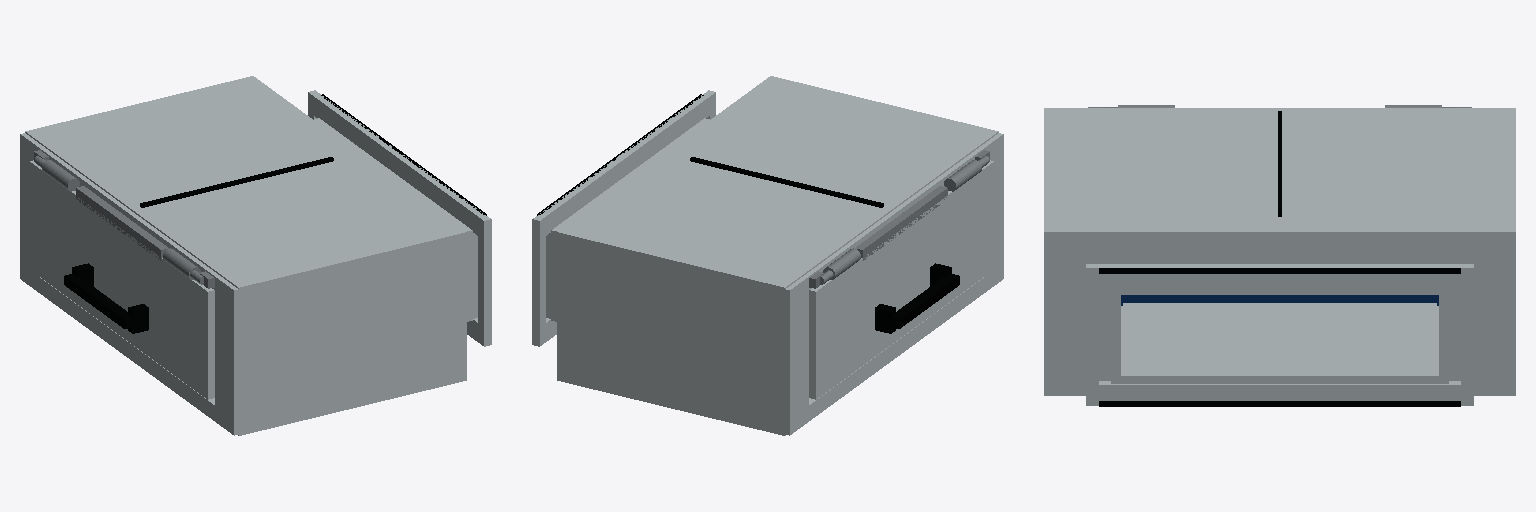
URDF robot description (duct_mounted_air_purifier):
<robot name="duct_mounted_air_purifier">
  <material name="warm_powder_coated_metal">
    <color rgba="0.72 0.75 0.76 1" />
    </material>
  <material name="dark_rubber_and_handles">
    <color rgba="0.02 0.025 0.028 1" />
    </material>
  <material name="brushed_hinge_metal">
    <color rgba="0.5 0.52 0.53 1" />
    </material>
  <material name="blue_filter_frame">
    <color rgba="0.08 0.23 0.42 1" />
    </material>
  <material name="pleated_white_filter_media">
    <color rgba="0.92 0.95 0.93 1" />
    </material>
  <material name="pale_blue_pleat_shadow">
    <color rgba="0.56 0.7 0.82 1" />
    </material>
  <link name="housing">
    <visual name="top_wall">
      <origin xyz="0 0 0.2125" rpy="0 0 0" />
      <geometry>
        <box size="0.72 1.2 0.035" />
        </geometry>
      <material name="warm_powder_coated_metal">
        <color rgba="0.72 0.75 0.76 1" />
        </material>
      </visual>
    <visual name="bottom_wall">
      <origin xyz="0 0 -0.2125" rpy="0 0 0" />
      <geometry>
        <box size="0.72 1.2 0.035" />
        </geometry>
      <material name="warm_powder_coated_metal">
        <color rgba="0.72 0.75 0.76 1" />
        </material>
      </visual>
    <visual name="side_wall_0">
      <origin xyz="0 -0.5775 0" rpy="0 0 0" />
      <geometry>
        <box size="0.72 0.045 0.46" />
        </geometry>
      <material name="warm_powder_coated_metal">
        <color rgba="0.72 0.75 0.76 1" />
        </material>
      </visual>
    <visual name="side_wall_1">
      <origin xyz="0 0.5775 0" rpy="0 0 0" />
      <geometry>
        <box size="0.72 0.045 0.46" />
        </geometry>
      <material name="warm_powder_coated_metal">
        <color rgba="0.72 0.75 0.76 1" />
        </material>
      </visual>
    <visual name="front_ring_top">
      <origin xyz="0.362 0 0.1825" rpy="0 0 0" />
      <geometry>
        <box size="0.035 1.2 0.095" />
        </geometry>
      <material name="warm_powder_coated_metal">
        <color rgba="0.72 0.75 0.76 1" />
        </material>
      </visual>
    <visual name="front_ring_bottom">
      <origin xyz="0.362 0 -0.1825" rpy="0 0 0" />
      <geometry>
        <box size="0.035 1.2 0.095" />
        </geometry>
      <material name="warm_powder_coated_metal">
        <color rgba="0.72 0.75 0.76 1" />
        </material>
      </visual>
    <visual name="front_ring_side_0">
      <origin xyz="0.362 -0.505 0" rpy="0 0 0" />
      <geometry>
        <box size="0.035 0.19 0.29" />
        </geometry>
      <material name="warm_powder_coated_metal">
        <color rgba="0.72 0.75 0.76 1" />
        </material>
      </visual>
    <visual name="front_ring_side_1">
      <origin xyz="0.362 0.505 0" rpy="0 0 0" />
      <geometry>
        <box size="0.035 0.19 0.29" />
        </geometry>
      <material name="warm_powder_coated_metal">
        <color rgba="0.72 0.75 0.76 1" />
        </material>
      </visual>
    <visual name="duct_sleeve_top">
      <origin xyz="0.435 0 0.127" rpy="0 0 0" />
      <geometry>
        <box size="0.155 0.86 0.026" />
        </geometry>
      <material name="warm_powder_coated_metal">
        <color rgba="0.72 0.75 0.76 1" />
        </material>
      </visual>
    <visual name="duct_sleeve_bottom">
      <origin xyz="0.435 0 -0.127" rpy="0 0 0" />
      <geometry>
        <box size="0.155 0.86 0.026" />
        </geometry>
      <material name="warm_powder_coated_metal">
        <color rgba="0.72 0.75 0.76 1" />
        </material>
      </visual>
    <visual name="duct_sleeve_side_0">
      <origin xyz="0.435 -0.417 0" rpy="0 0 0" />
      <geometry>
        <box size="0.155 0.026 0.28" />
        </geometry>
      <material name="warm_powder_coated_metal">
        <color rgba="0.72 0.75 0.76 1" />
        </material>
      </visual>
    <visual name="duct_sleeve_side_1">
      <origin xyz="0.435 0.417 0" rpy="0 0 0" />
      <geometry>
        <box size="0.155 0.026 0.28" />
        </geometry>
      <material name="warm_powder_coated_metal">
        <color rgba="0.72 0.75 0.76 1" />
        </material>
      </visual>
    <visual name="mount_flange_top">
      <origin xyz="0.508 0 0.165" rpy="0 0 0" />
      <geometry>
        <box size="0.024 0.99 0.06" />
        </geometry>
      <material name="warm_powder_coated_metal">
        <color rgba="0.72 0.75 0.76 1" />
        </material>
      </visual>
    <visual name="mount_flange_bottom">
      <origin xyz="0.508 0 -0.165" rpy="0 0 0" />
      <geometry>
        <box size="0.024 0.99 0.06" />
        </geometry>
      <material name="warm_powder_coated_metal">
        <color rgba="0.72 0.75 0.76 1" />
        </material>
      </visual>
    <visual name="mount_flange_side_0">
      <origin xyz="0.508 -0.4775 0" rpy="0 0 0" />
      <geometry>
        <box size="0.024 0.035 0.39" />
        </geometry>
      <material name="warm_powder_coated_metal">
        <color rgba="0.72 0.75 0.76 1" />
        </material>
      </visual>
    <visual name="mount_flange_side_1">
      <origin xyz="0.508 0.4775 0" rpy="0 0 0" />
      <geometry>
        <box size="0.024 0.035 0.39" />
        </geometry>
      <material name="warm_powder_coated_metal">
        <color rgba="0.72 0.75 0.76 1" />
        </material>
      </visual>
    <visual name="rear_lip_top">
      <origin xyz="-0.362 0 0.2" rpy="0 0 0" />
      <geometry>
        <box size="0.026 1.2 0.05" />
        </geometry>
      <material name="warm_powder_coated_metal">
        <color rgba="0.72 0.75 0.76 1" />
        </material>
      </visual>
    <visual name="rear_lip_bottom">
      <origin xyz="-0.362 0 -0.2" rpy="0 0 0" />
      <geometry>
        <box size="0.026 1.2 0.05" />
        </geometry>
      <material name="warm_powder_coated_metal">
        <color rgba="0.72 0.75 0.76 1" />
        </material>
      </visual>
    <visual name="rear_lip_side_0">
      <origin xyz="-0.362 -0.545 0" rpy="0 0 0" />
      <geometry>
        <box size="0.026 0.11 0.36" />
        </geometry>
      <material name="warm_powder_coated_metal">
        <color rgba="0.72 0.75 0.76 1" />
        </material>
      </visual>
    <visual name="rear_lip_side_1">
      <origin xyz="-0.362 0.545 0" rpy="0 0 0" />
      <geometry>
        <box size="0.026 0.11 0.36" />
        </geometry>
      <material name="warm_powder_coated_metal">
        <color rgba="0.72 0.75 0.76 1" />
        </material>
      </visual>
    <visual name="lower_guide_0">
      <origin xyz="-0.125 -0.5 -0.153" rpy="0 0 0" />
      <geometry>
        <box size="0.43 0.11 0.022" />
        </geometry>
      <material name="warm_powder_coated_metal">
        <color rgba="0.72 0.75 0.76 1" />
        </material>
      </visual>
    <visual name="lower_guide_1">
      <origin xyz="-0.125 0.5 -0.153" rpy="0 0 0" />
      <geometry>
        <box size="0.43 0.11 0.022" />
        </geometry>
      <material name="warm_powder_coated_metal">
        <color rgba="0.72 0.75 0.76 1" />
        </material>
      </visual>
    <visual name="upper_guide_0">
      <origin xyz="-0.125 -0.5 0.155" rpy="0 0 0" />
      <geometry>
        <box size="0.43 0.11 0.018" />
        </geometry>
      <material name="warm_powder_coated_metal">
        <color rgba="0.72 0.75 0.76 1" />
        </material>
      </visual>
    <visual name="upper_guide_1">
      <origin xyz="-0.125 0.5 0.155" rpy="0 0 0" />
      <geometry>
        <box size="0.43 0.11 0.018" />
        </geometry>
      <material name="warm_powder_coated_metal">
        <color rgba="0.72 0.75 0.76 1" />
        </material>
      </visual>
    <visual name="top_split_seam">
      <origin xyz="-0.02 0 0.235" rpy="0 0 0" />
      <geometry>
        <box size="0.62 0.012 0.01" />
        </geometry>
      <material name="dark_rubber_and_handles">
        <color rgba="0.02 0.025 0.028 1" />
        </material>
      </visual>
    <visual name="front_top_gasket">
      <origin xyz="0.52 0 0.188" rpy="0 0 0" />
      <geometry>
        <box size="0.012 0.92 0.014" />
        </geometry>
      <material name="dark_rubber_and_handles">
        <color rgba="0.02 0.025 0.028 1" />
        </material>
      </visual>
    <visual name="front_bottom_gasket">
      <origin xyz="0.52 0 -0.188" rpy="0 0 0" />
      <geometry>
        <box size="0.012 0.92 0.014" />
        </geometry>
      <material name="dark_rubber_and_handles">
        <color rgba="0.02 0.025 0.028 1" />
        </material>
      </visual>
    <visual name="hinge_base_0">
      <origin xyz="-0.37 -0.465 0.205" rpy="0 0 0" />
      <geometry>
        <box size="0.05 0.05 0.03" />
        </geometry>
      <material name="brushed_hinge_metal">
        <color rgba="0.5 0.52 0.53 1" />
        </material>
      </visual>
    <visual name="fixed_pin_boss_0">
      <origin xyz="-0.397 -0.4 0.205" rpy="-1.5708 0 0" />
      <geometry>
        <cylinder radius="0.012" length="0.13" />
        </geometry>
      <material name="brushed_hinge_metal">
        <color rgba="0.5 0.52 0.53 1" />
        </material>
      </visual>
    <visual name="hinge_base_1">
      <origin xyz="-0.37 0.465 0.205" rpy="0 0 0" />
      <geometry>
        <box size="0.05 0.05 0.03" />
        </geometry>
      <material name="brushed_hinge_metal">
        <color rgba="0.5 0.52 0.53 1" />
        </material>
      </visual>
    <visual name="fixed_pin_boss_1">
      <origin xyz="-0.397 0.4 0.205" rpy="-1.5708 0 0" />
      <geometry>
        <cylinder radius="0.012" length="0.13" />
        </geometry>
      <material name="brushed_hinge_metal">
        <color rgba="0.5 0.52 0.53 1" />
        </material>
      </visual>
    </link>
  <link name="rear_door">
    <visual name="door_panel">
      <origin xyz="0 0 -0.185" rpy="0 0 0" />
      <geometry>
        <box size="0.022 1 0.335" />
        </geometry>
      <material name="warm_powder_coated_metal">
        <color rgba="0.72 0.75 0.76 1" />
        </material>
      </visual>
    <visual name="top_gasket">
      <origin xyz="0.017 0 -0.03" rpy="0 0 0" />
      <geometry>
        <box size="0.012 0.94 0.018" />
        </geometry>
      <material name="dark_rubber_and_handles">
        <color rgba="0.02 0.025 0.028 1" />
        </material>
      </visual>
    <visual name="bottom_gasket">
      <origin xyz="0.017 0 -0.335" rpy="0 0 0" />
      <geometry>
        <box size="0.012 0.94 0.018" />
        </geometry>
      <material name="dark_rubber_and_handles">
        <color rgba="0.02 0.025 0.028 1" />
        </material>
      </visual>
    <visual name="gasket_0">
      <origin xyz="0.017 -0.47 -0.185" rpy="0 0 0" />
      <geometry>
        <box size="0.012 0.018 0.32" />
        </geometry>
      <material name="dark_rubber_and_handles">
        <color rgba="0.02 0.025 0.028 1" />
        </material>
      </visual>
    <visual name="gasket_1">
      <origin xyz="0.017 0.47 -0.185" rpy="0 0 0" />
      <geometry>
        <box size="0.012 0.018 0.32" />
        </geometry>
      <material name="dark_rubber_and_handles">
        <color rgba="0.02 0.025 0.028 1" />
        </material>
      </visual>
    <visual name="hinge_leaf">
      <origin xyz="0.002 0 -0.012" rpy="0 0 0" />
      <geometry>
        <box size="0.026 0.48 0.036" />
        </geometry>
      <material name="brushed_hinge_metal">
        <color rgba="0.5 0.52 0.53 1" />
        </material>
      </visual>
    <visual name="hinge_knuckle_0">
      <origin xyz="-0.002 -0.34 0" rpy="-1.5708 0 0" />
      <geometry>
        <cylinder radius="0.02" length="0.145" />
        </geometry>
      <material name="brushed_hinge_metal">
        <color rgba="0.5 0.52 0.53 1" />
        </material>
      </visual>
    <visual name="hinge_knuckle_1">
      <origin xyz="-0.002 0.34 0" rpy="-1.5708 0 0" />
      <geometry>
        <cylinder radius="0.02" length="0.145" />
        </geometry>
      <material name="brushed_hinge_metal">
        <color rgba="0.5 0.52 0.53 1" />
        </material>
      </visual>
    <visual name="handle_post_0">
      <origin xyz="-0.037 -0.155 -0.235" rpy="0 0 0" />
      <geometry>
        <box size="0.052 0.03 0.07" />
        </geometry>
      <material name="dark_rubber_and_handles">
        <color rgba="0.02 0.025 0.028 1" />
        </material>
      </visual>
    <visual name="handle_post_1">
      <origin xyz="-0.037 0.155 -0.235" rpy="0 0 0" />
      <geometry>
        <box size="0.052 0.03 0.07" />
        </geometry>
      <material name="dark_rubber_and_handles">
        <color rgba="0.02 0.025 0.028 1" />
        </material>
      </visual>
    <visual name="pull_handle">
      <origin xyz="-0.072 0 -0.235" rpy="0 0 0" />
      <geometry>
        <box size="0.034 0.34 0.03" />
        </geometry>
      <material name="dark_rubber_and_handles">
        <color rgba="0.02 0.025 0.028 1" />
        </material>
      </visual>
    </link>
  <link name="filter_frame">
    <visual name="media_block">
      <origin xyz="0.175 0 0" rpy="0 0 0" />
      <geometry>
        <box size="0.31 0.8 0.235" />
        </geometry>
      <material name="pleated_white_filter_media">
        <color rgba="0.92 0.95 0.93 1" />
        </material>
      </visual>
    <visual name="top_rail">
      <origin xyz="0.175 0 0.127" rpy="0 0 0" />
      <geometry>
        <box size="0.34 0.9 0.03" />
        </geometry>
      <material name="blue_filter_frame">
        <color rgba="0.08 0.23 0.42 1" />
        </material>
      </visual>
    <visual name="bottom_rail">
      <origin xyz="0.175 0 -0.127" rpy="0 0 0" />
      <geometry>
        <box size="0.34 0.9 0.03" />
        </geometry>
      <material name="blue_filter_frame">
        <color rgba="0.08 0.23 0.42 1" />
        </material>
      </visual>
    <visual name="side_rail_0">
      <origin xyz="0.175 -0.415 0" rpy="0 0 0" />
      <geometry>
        <box size="0.34 0.03 0.3" />
        </geometry>
      <material name="blue_filter_frame">
        <color rgba="0.08 0.23 0.42 1" />
        </material>
      </visual>
    <visual name="side_rail_1">
      <origin xyz="0.175 0.415 0" rpy="0 0 0" />
      <geometry>
        <box size="0.34 0.03 0.3" />
        </geometry>
      <material name="blue_filter_frame">
        <color rgba="0.08 0.23 0.42 1" />
        </material>
      </visual>
    <visual name="pull_tab">
      <origin xyz="-0.004 0 -0.01" rpy="0 0 0" />
      <geometry>
        <box size="0.032 0.27 0.075" />
        </geometry>
      <material name="blue_filter_frame">
        <color rgba="0.08 0.23 0.42 1" />
        </material>
      </visual>
    <visual name="rear_crossbar">
      <origin xyz="0.018 0 0" rpy="0 0 0" />
      <geometry>
        <box size="0.02 0.79 0.018" />
        </geometry>
      <material name="blue_filter_frame">
        <color rgba="0.08 0.23 0.42 1" />
        </material>
      </visual>
    <visual name="pleat_0">
      <origin xyz="0.014 -0.315 0" rpy="0 0 0" />
      <geometry>
        <box size="0.012 0.018 0.218" />
        </geometry>
      <material name="pale_blue_pleat_shadow">
        <color rgba="0.56 0.7 0.82 1" />
        </material>
      </visual>
    <visual name="pleat_1">
      <origin xyz="0.014 -0.21 0" rpy="0 0 0" />
      <geometry>
        <box size="0.012 0.018 0.218" />
        </geometry>
      <material name="pale_blue_pleat_shadow">
        <color rgba="0.56 0.7 0.82 1" />
        </material>
      </visual>
    <visual name="pleat_2">
      <origin xyz="0.014 -0.105 0" rpy="0 0 0" />
      <geometry>
        <box size="0.012 0.018 0.218" />
        </geometry>
      <material name="pale_blue_pleat_shadow">
        <color rgba="0.56 0.7 0.82 1" />
        </material>
      </visual>
    <visual name="pleat_3">
      <origin xyz="0.014 0 0" rpy="0 0 0" />
      <geometry>
        <box size="0.012 0.018 0.218" />
        </geometry>
      <material name="pale_blue_pleat_shadow">
        <color rgba="0.56 0.7 0.82 1" />
        </material>
      </visual>
    <visual name="pleat_4">
      <origin xyz="0.014 0.105 0" rpy="0 0 0" />
      <geometry>
        <box size="0.012 0.018 0.218" />
        </geometry>
      <material name="pale_blue_pleat_shadow">
        <color rgba="0.56 0.7 0.82 1" />
        </material>
      </visual>
    <visual name="pleat_5">
      <origin xyz="0.014 0.21 0" rpy="0 0 0" />
      <geometry>
        <box size="0.012 0.018 0.218" />
        </geometry>
      <material name="pale_blue_pleat_shadow">
        <color rgba="0.56 0.7 0.82 1" />
        </material>
      </visual>
    <visual name="pleat_6">
      <origin xyz="0.014 0.315 0" rpy="0 0 0" />
      <geometry>
        <box size="0.012 0.018 0.218" />
        </geometry>
      <material name="pale_blue_pleat_shadow">
        <color rgba="0.56 0.7 0.82 1" />
        </material>
      </visual>
    </link>
  <joint name="door_hinge" type="revolute">
    <origin xyz="-0.392 0 0.205" rpy="0 0 0" />
    <parent link="housing" />
    <child link="rear_door" />
    <axis xyz="0 1 0" />
    <limit effort="12" velocity="1.5" lower="0" upper="1.85" />
    </joint>
  <joint name="filter_slide" type="prismatic">
    <origin xyz="-0.335 0 0" rpy="0 0 0" />
    <parent link="housing" />
    <child link="filter_frame" />
    <axis xyz="-1 0 0" />
    <limit effort="45" velocity="0.35" lower="0" upper="0.285" />
    </joint>
  </robot>

--- Facts derived from the render (not from the file) ---
3 views of the same robot in one strip: view 1: azimuth 30°, elevation 25°; view 2: azimuth 150°, elevation 25°; view 3: azimuth 270°, elevation 25° (orthographic).
Robot: duct_mounted_air_purifier — 3 links, 2 joints (1 revolute, 1 prismatic); root link housing; default pose: all joints at 0.
Links seen in each view (by area): view 1: housing, rear_door; view 2: housing, rear_door; view 3: housing, filter_frame.
Link boxes in pixels (left/top/right/bottom): housing: left=20, top=76, right=491, bottom=435; rear_door: left=30, top=160, right=214, bottom=399; housing: left=532, top=76, right=1003, bottom=435; rear_door: left=809, top=160, right=993, bottom=399; housing: left=1044, top=107, right=1515, bottom=406; filter_frame: left=1121, top=295, right=1438, bottom=305.
Bounding box of the posed robot: 1.01 × 1.2 × 0.47 m (x, y, z).
Geometry: primitives only (box / cylinder / sphere), no mesh files.
